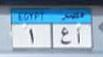1: (27, 26, 36, 45)
ain: (59, 27, 72, 46)
alif: (75, 26, 82, 44)
